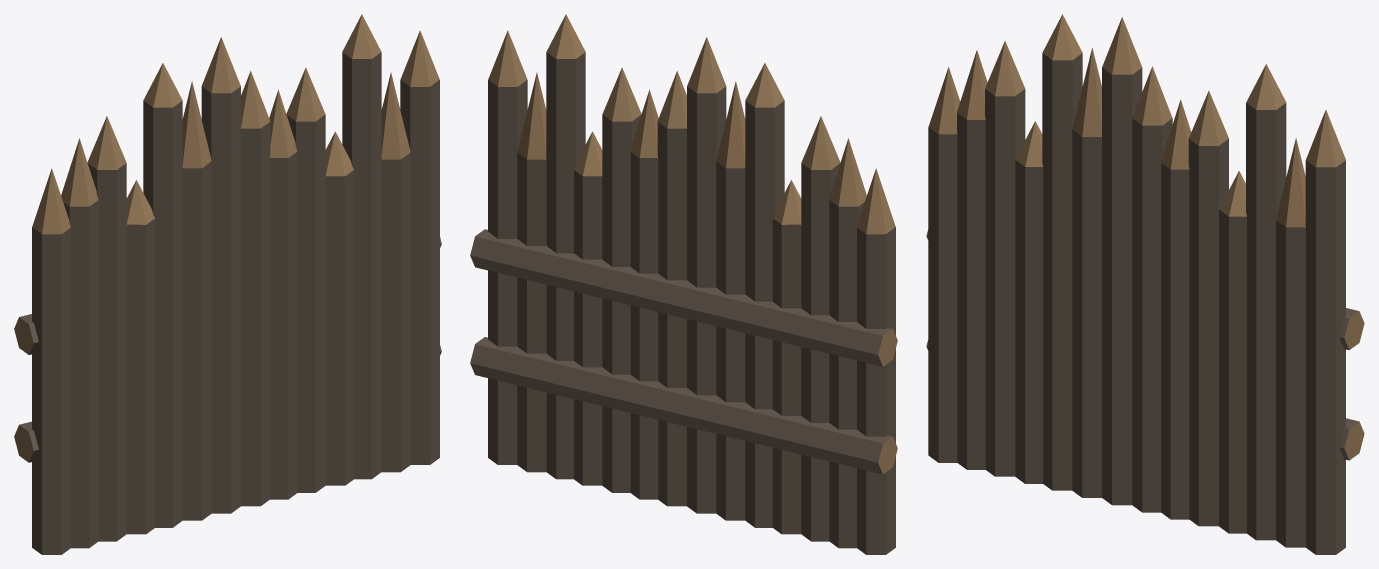
The model's file is Wood_Wall_02.fbx.
3 views of the same model, side by side, from view 1: azimuth 30°, elevation 25°; view 2: azimuth 150°, elevation 25°; view 3: azimuth 330°, elevation 25° (orthographic). The views are drawn at different scales.
Parts seen in each view (by area): view 1: Wood_Wall_02; view 2: Wood_Wall_02; view 3: Wood_Wall_02.
Boxes of the visible parts, left/top/right/bottom form: Wood_Wall_02: left=14, top=14, right=441, bottom=554; Wood_Wall_02: left=470, top=14, right=897, bottom=554; Wood_Wall_02: left=926, top=14, right=1364, bottom=554.
Size of the model in its own units: 88.47 by 97.33 by 10.41.
